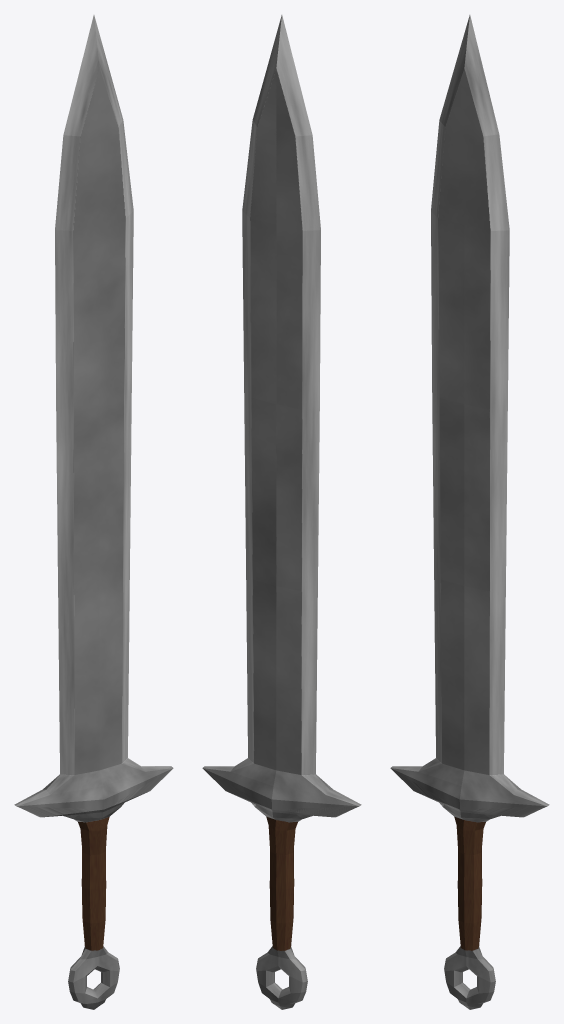
File: Sword.fbx
3 views of the same model, side by side, from view 1: azimuth 30°, elevation 25°; view 2: azimuth 150°, elevation 25°; view 3: azimuth 330°, elevation 25° (orthographic).
Parts seen in each view (by area): view 1: OldSword; view 2: OldSword; view 3: OldSword.
Part boxes in pixels (left/top/right/bottom): OldSword: left=14, top=15, right=173, bottom=1009; OldSword: left=202, top=15, right=361, bottom=1009; OldSword: left=390, top=15, right=549, bottom=1009.
Bounding box in the file's own units: 24.26 × 147 × 5.47.
Materials: 5 (5 with a texture image).
